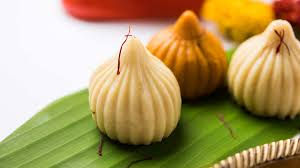modak: (89, 27, 186, 141), (151, 6, 237, 93), (225, 16, 300, 111)
